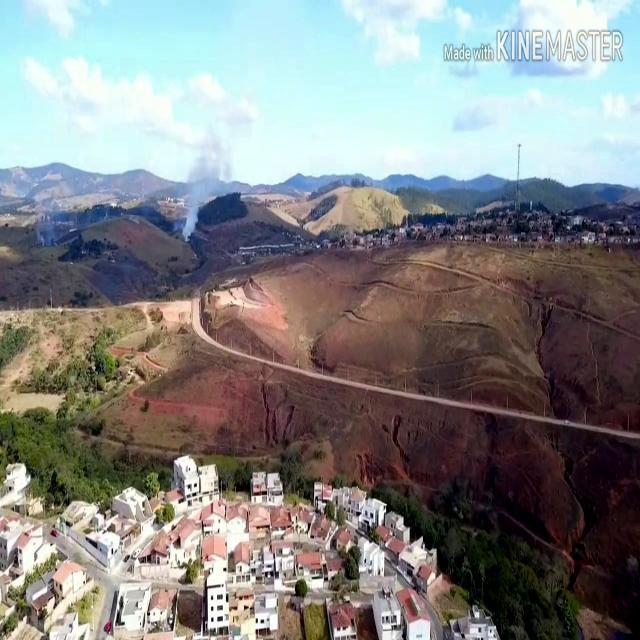Smoke: (180, 158, 215, 239)
